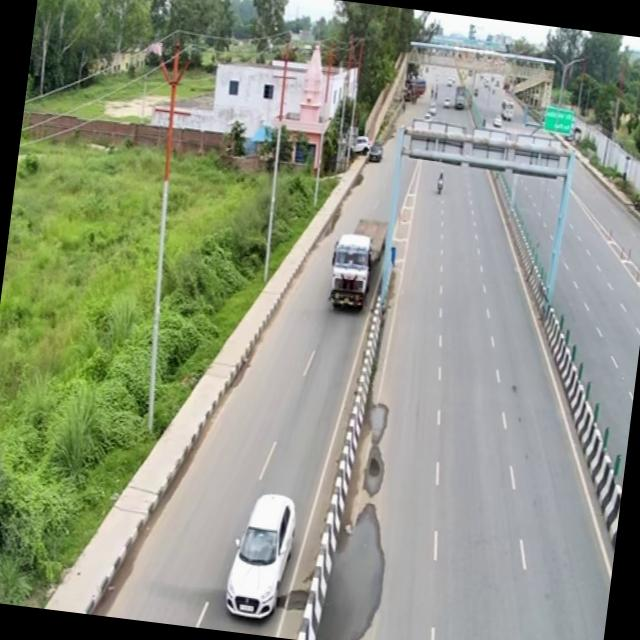car: (114, 344, 214, 458)
